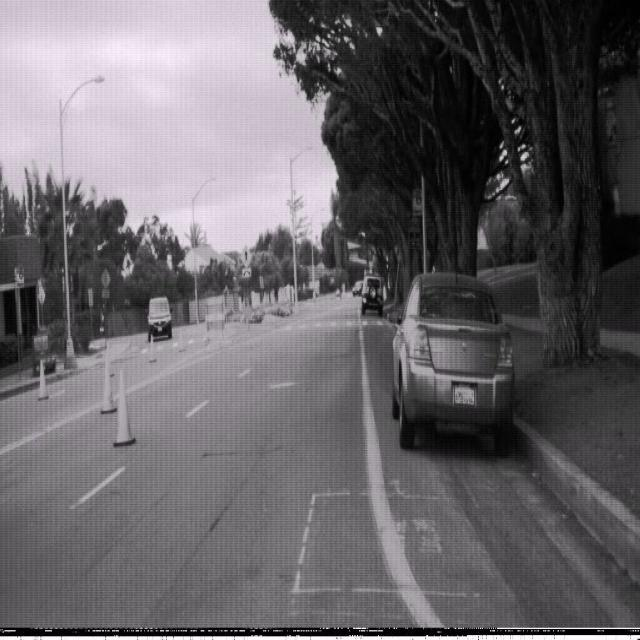pedestrianCrossing: (238, 242, 252, 270)
